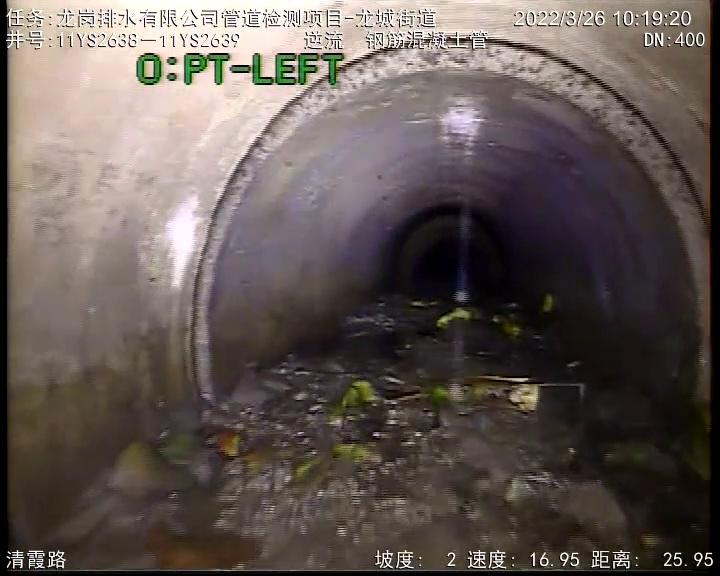CJ: (148, 296, 710, 569)
CKTJ: (187, 41, 708, 398)
